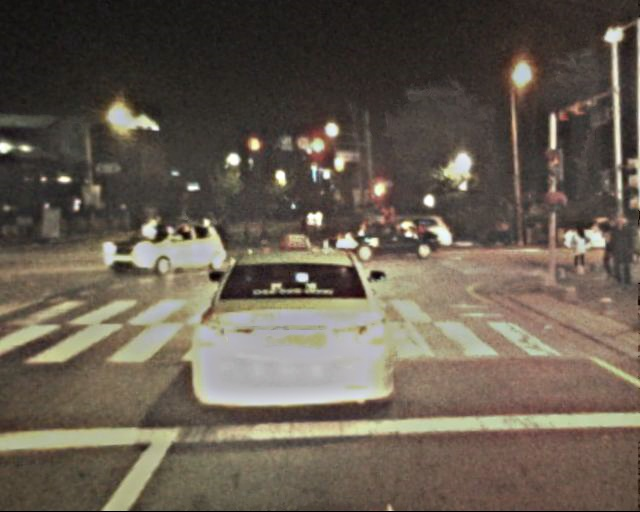person: (607, 217, 637, 289), (598, 215, 626, 283), (568, 225, 588, 274), (207, 211, 228, 243), (292, 213, 308, 253), (495, 218, 515, 250), (253, 212, 268, 248), (237, 213, 251, 247)
